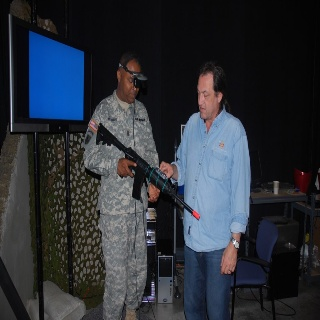rifle: (96, 122, 202, 223)
